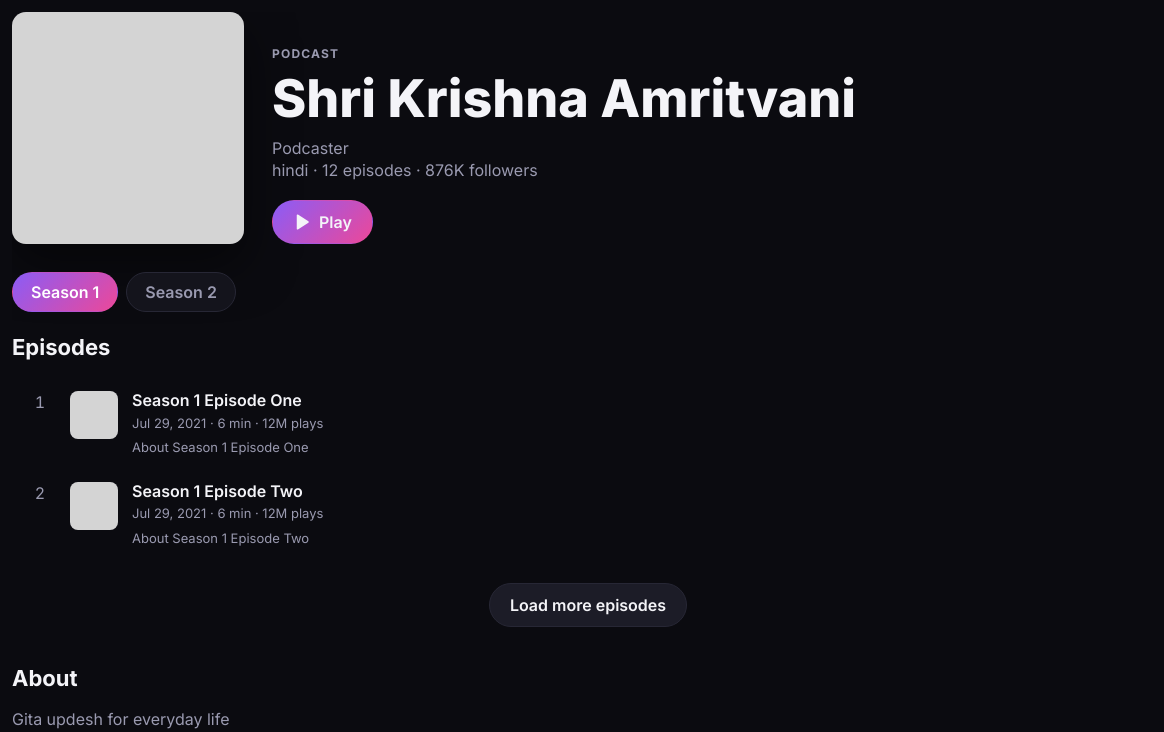
it: PodcastPage › switches seasons through the tabs and refetches
Expected: the text "Season 1 Episode One" is shown, [132,390,302,410]
Step 1. Click the tab "Season 2" → (181,292), box [126,272,236,312]
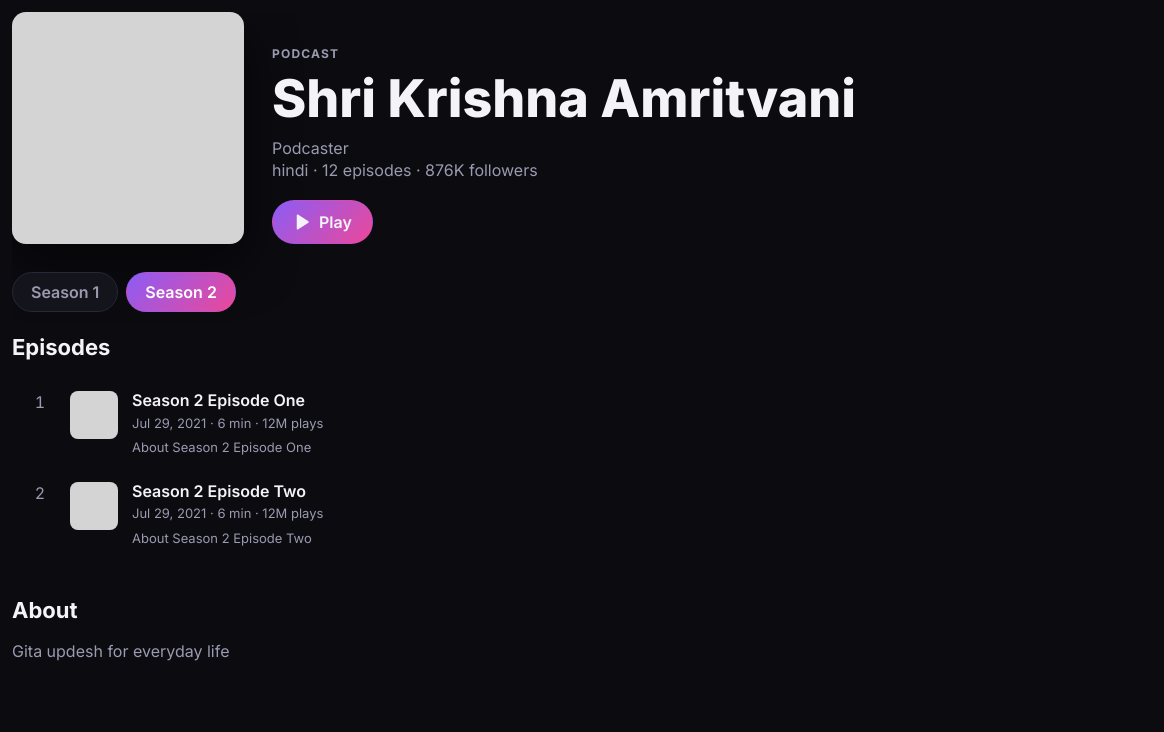
Expected: the text "Season 2 Episode One" is shown, [132,390,305,410]
